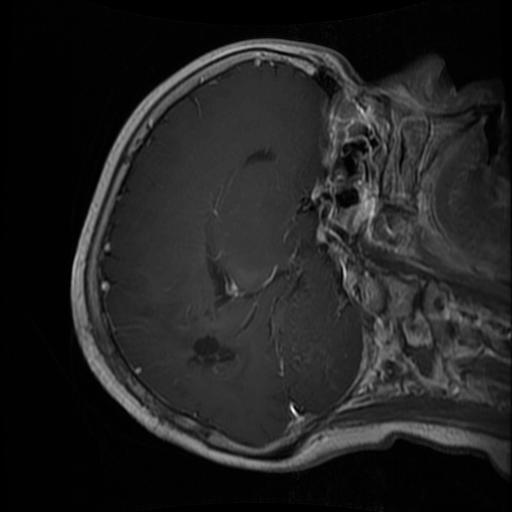glioma: (184, 331, 245, 378)
